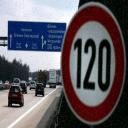speed_limit_120: (60, 2, 126, 126)
